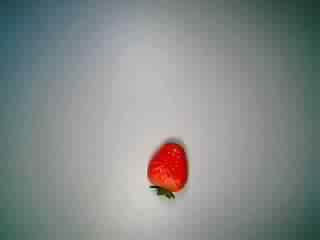strawberry: (131, 133, 193, 203)
